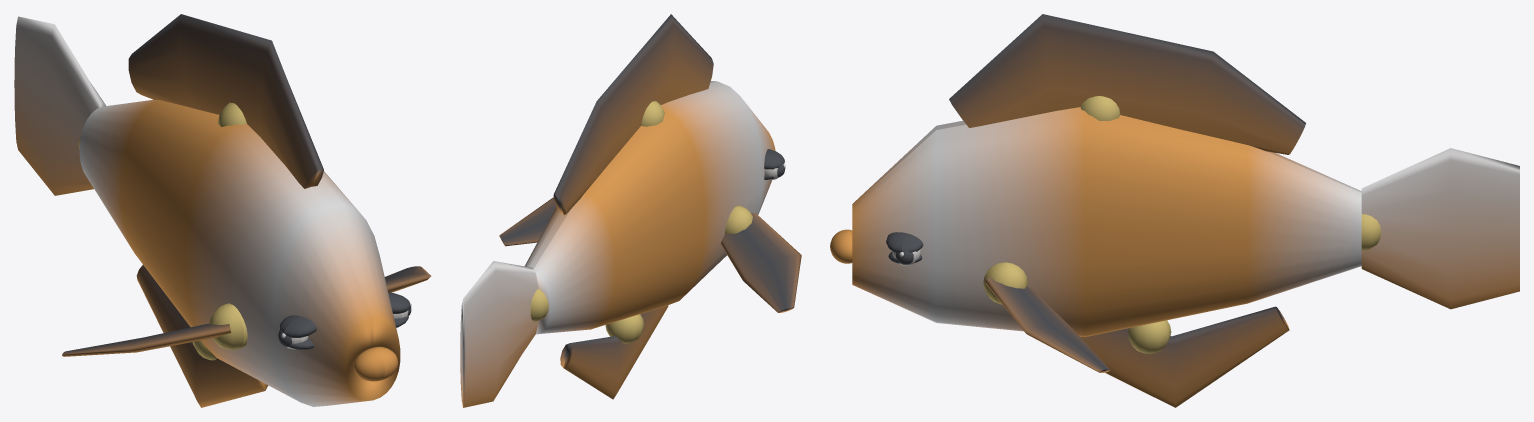
Rendered from clownfish.glb.
The picture shows the model from 3 angles, left to right: view 1: azimuth 30°, elevation 25°; view 2: azimuth 150°, elevation 25°; view 3: azimuth 270°, elevation 25°; orthographic projection. The views are drawn at different scales.
Visible parts, largest first — view 1: Body, Fin_Dorsal, Fin_Caudal, Fin_Pelvic, Fin_Pectoral_L, Fin_Pectoral_R; view 2: Body, Fin_Dorsal, Fin_Caudal, Fin_Pectoral_L, Fin_Pelvic, Fin_Pectoral_R; view 3: Body, Fin_Dorsal, Fin_Caudal, Fin_Pelvic, Fin_Pectoral_R.
Boxes of the visible parts, left/top/right/bottom form: Body: left=79, top=99, right=411, bottom=406; Fin_Dorsal: left=128, top=14, right=323, bottom=188; Fin_Caudal: left=14, top=16, right=105, bottom=195; Fin_Pelvic: left=136, top=265, right=268, bottom=407; Fin_Pectoral_L: left=62, top=303, right=247, bottom=356; Fin_Pectoral_R: left=384, top=266, right=431, bottom=292; Body: left=525, top=81, right=785, bottom=334; Fin_Dorsal: left=553, top=14, right=713, bottom=214; Fin_Caudal: left=460, top=261, right=548, bottom=407; Fin_Pectoral_L: left=720, top=205, right=801, bottom=312; Fin_Pelvic: left=560, top=305, right=668, bottom=399; Fin_Pectoral_R: left=499, top=197, right=556, bottom=246; Body: left=830, top=107, right=1361, bottom=337; Fin_Dorsal: left=949, top=14, right=1305, bottom=154; Fin_Caudal: left=1361, top=148, right=1519, bottom=309; Fin_Pelvic: left=1080, top=306, right=1289, bottom=407; Fin_Pectoral_R: left=983, top=262, right=1109, bottom=372.
Bounding box in the file's own units: 0.7904 × 0.879 × 1.4.
